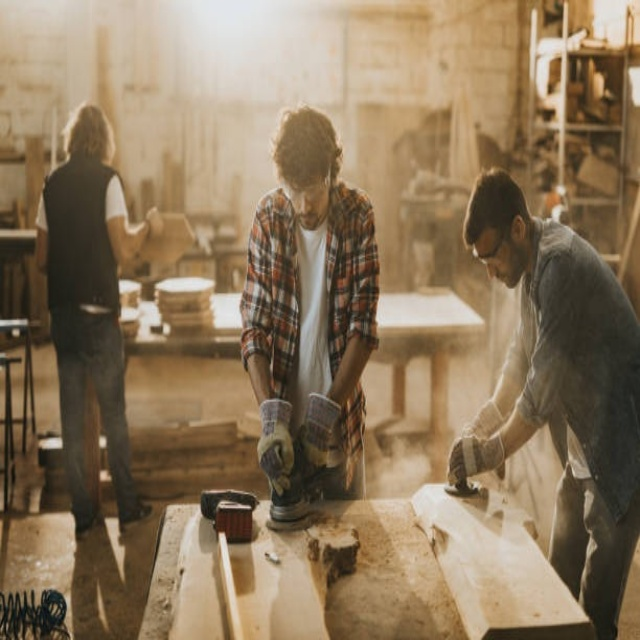Gafas: (473, 224, 507, 263), (286, 174, 328, 205)
Guantes: (447, 431, 504, 487), (300, 394, 341, 467), (257, 418, 294, 494), (144, 208, 165, 242)
Sin_mascara: (489, 268, 515, 293), (297, 209, 320, 232)
